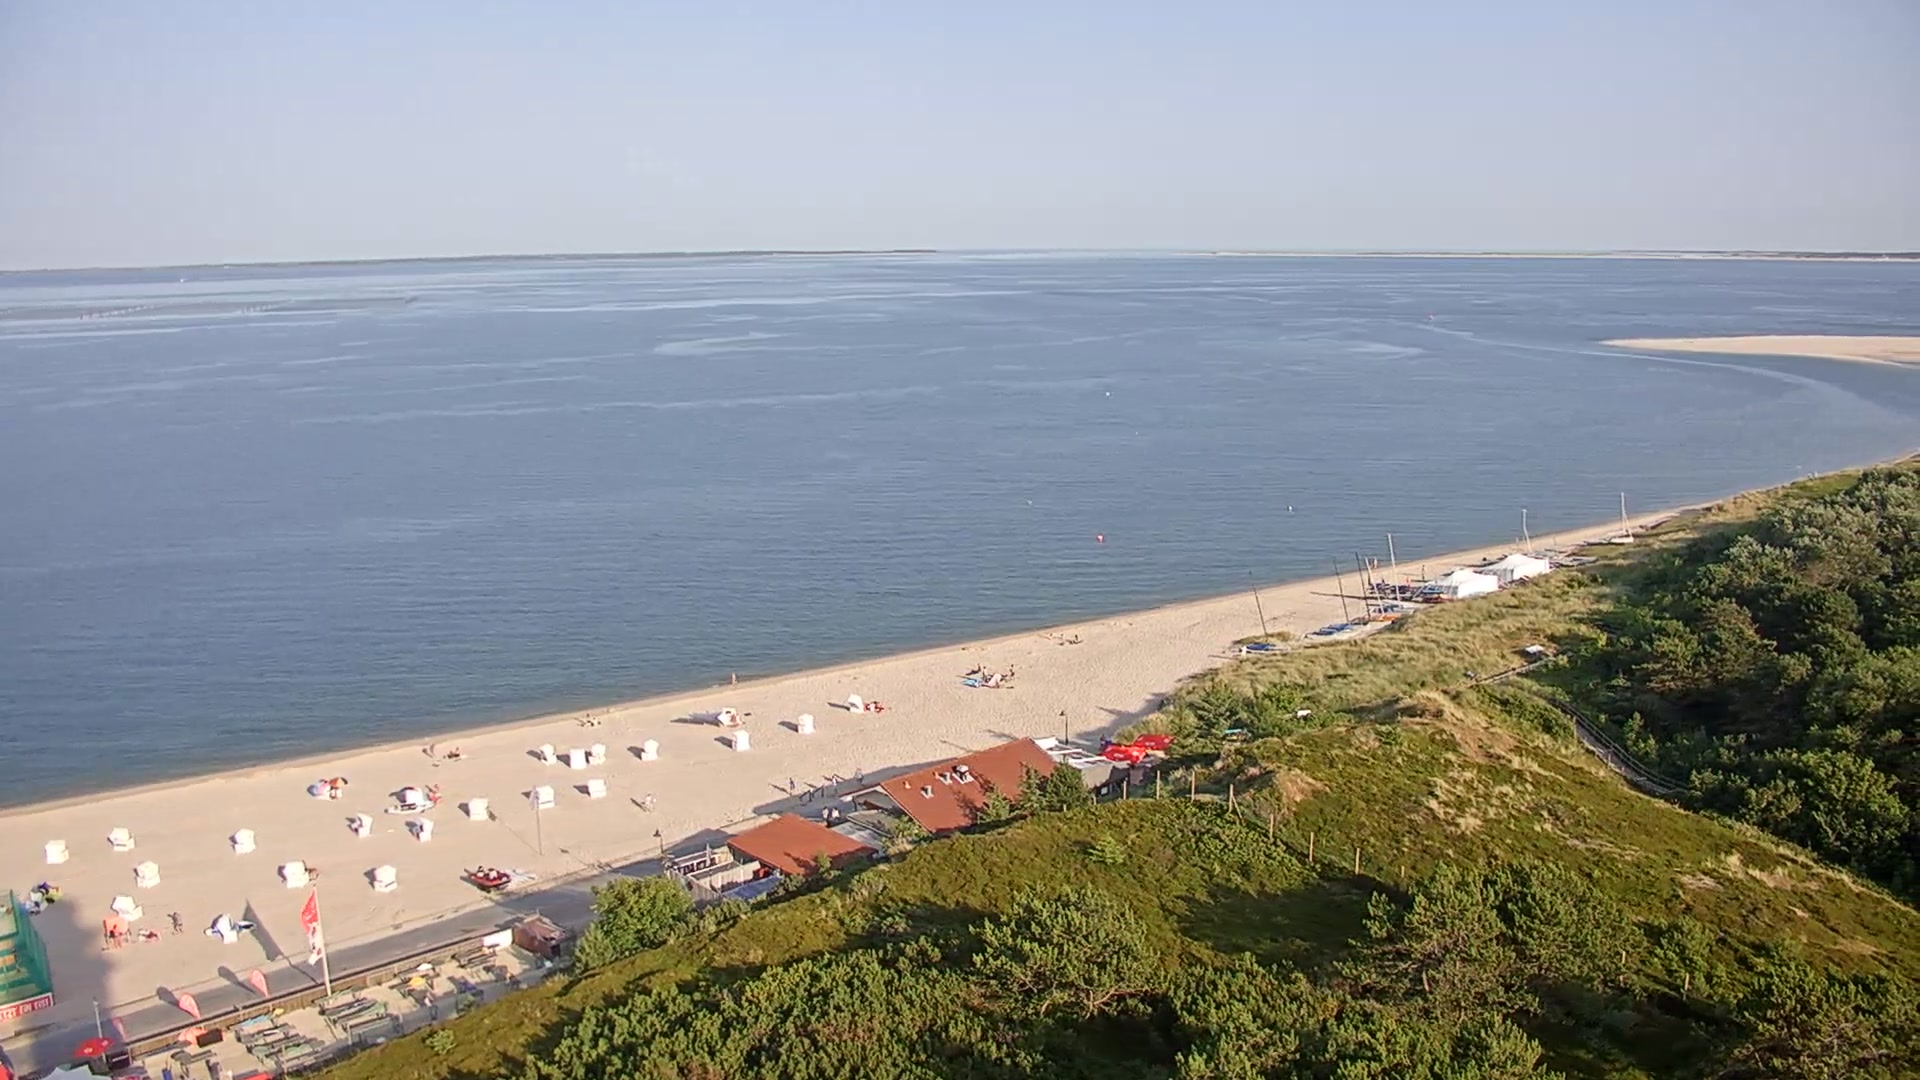human: (170, 910, 184, 933), (109, 924, 123, 948), (644, 793, 654, 811), (822, 804, 830, 825), (1369, 555, 1379, 569), (1007, 662, 1015, 679), (584, 711, 593, 725), (831, 805, 840, 817), (328, 786, 336, 799), (788, 777, 795, 792), (981, 664, 988, 680), (334, 786, 342, 799), (730, 672, 737, 687), (453, 746, 461, 757), (1072, 633, 1079, 640)
sea: (1370, 534, 1405, 617), (1239, 569, 1279, 640), (1327, 556, 1363, 627), (1349, 551, 1385, 622), (1362, 552, 1391, 620), (1515, 508, 1547, 560), (1605, 490, 1634, 543), (464, 864, 512, 890), (1555, 552, 1597, 565)
